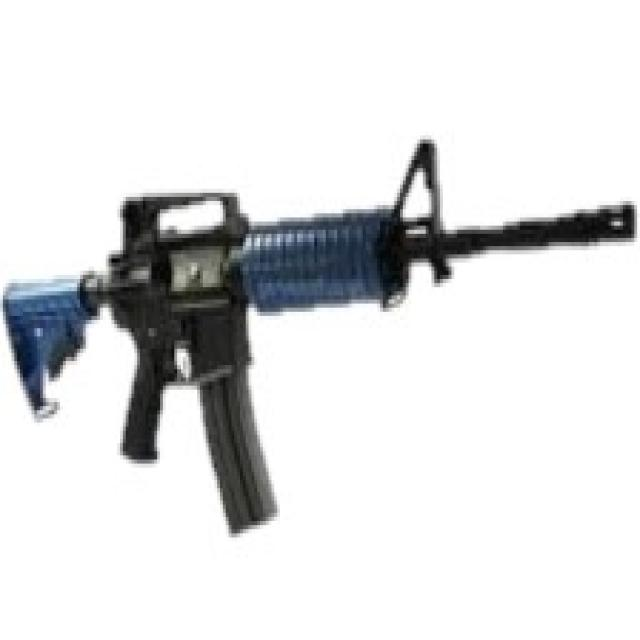rifle: (1, 137, 640, 573)
